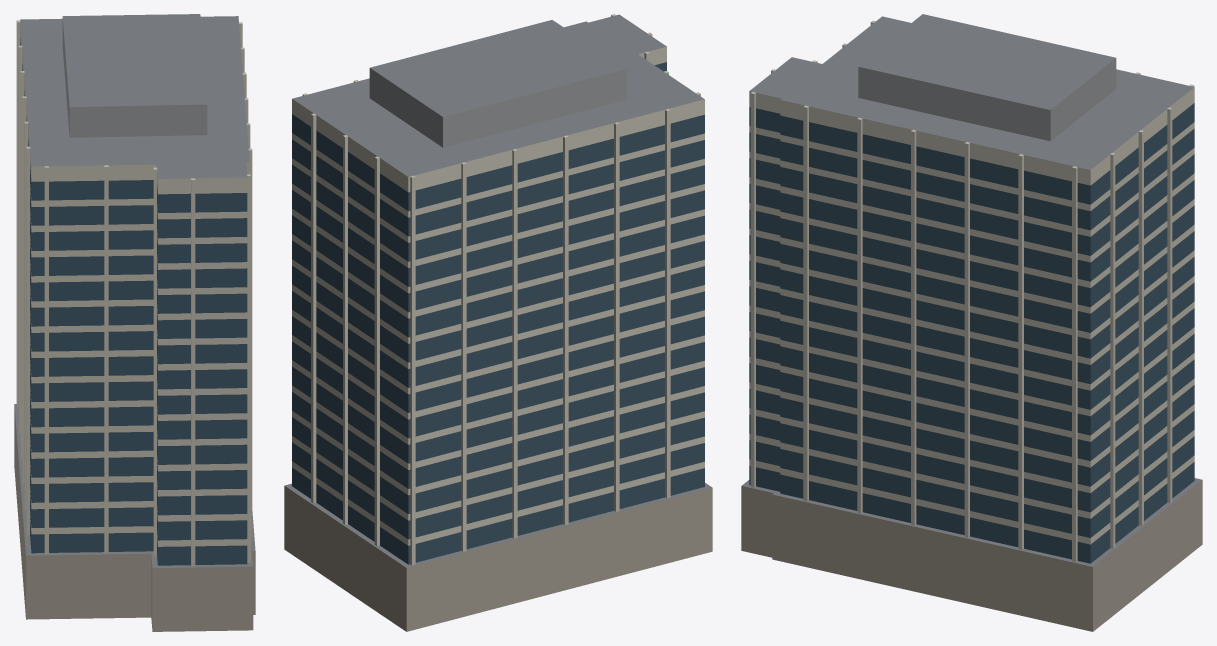
The model's file is bank_of_america_plaza_w180483375.glb.
The picture shows the model from 3 angles, left to right: view 1: azimuth 30°, elevation 25°; view 2: azimuth 150°, elevation 25°; view 3: azimuth 270°, elevation 25°; orthographic projection.
Visible parts, largest first — view 1: Tower; view 2: Tower; view 3: Tower.
Boxes of the visible parts, x1,y1,x2,y2 form: Tower: (14,14,255,631); Tower: (284,14,712,631); Tower: (741,14,1202,631).
Size of the model in its own units: 52.91 by 75.4 by 64.32.
